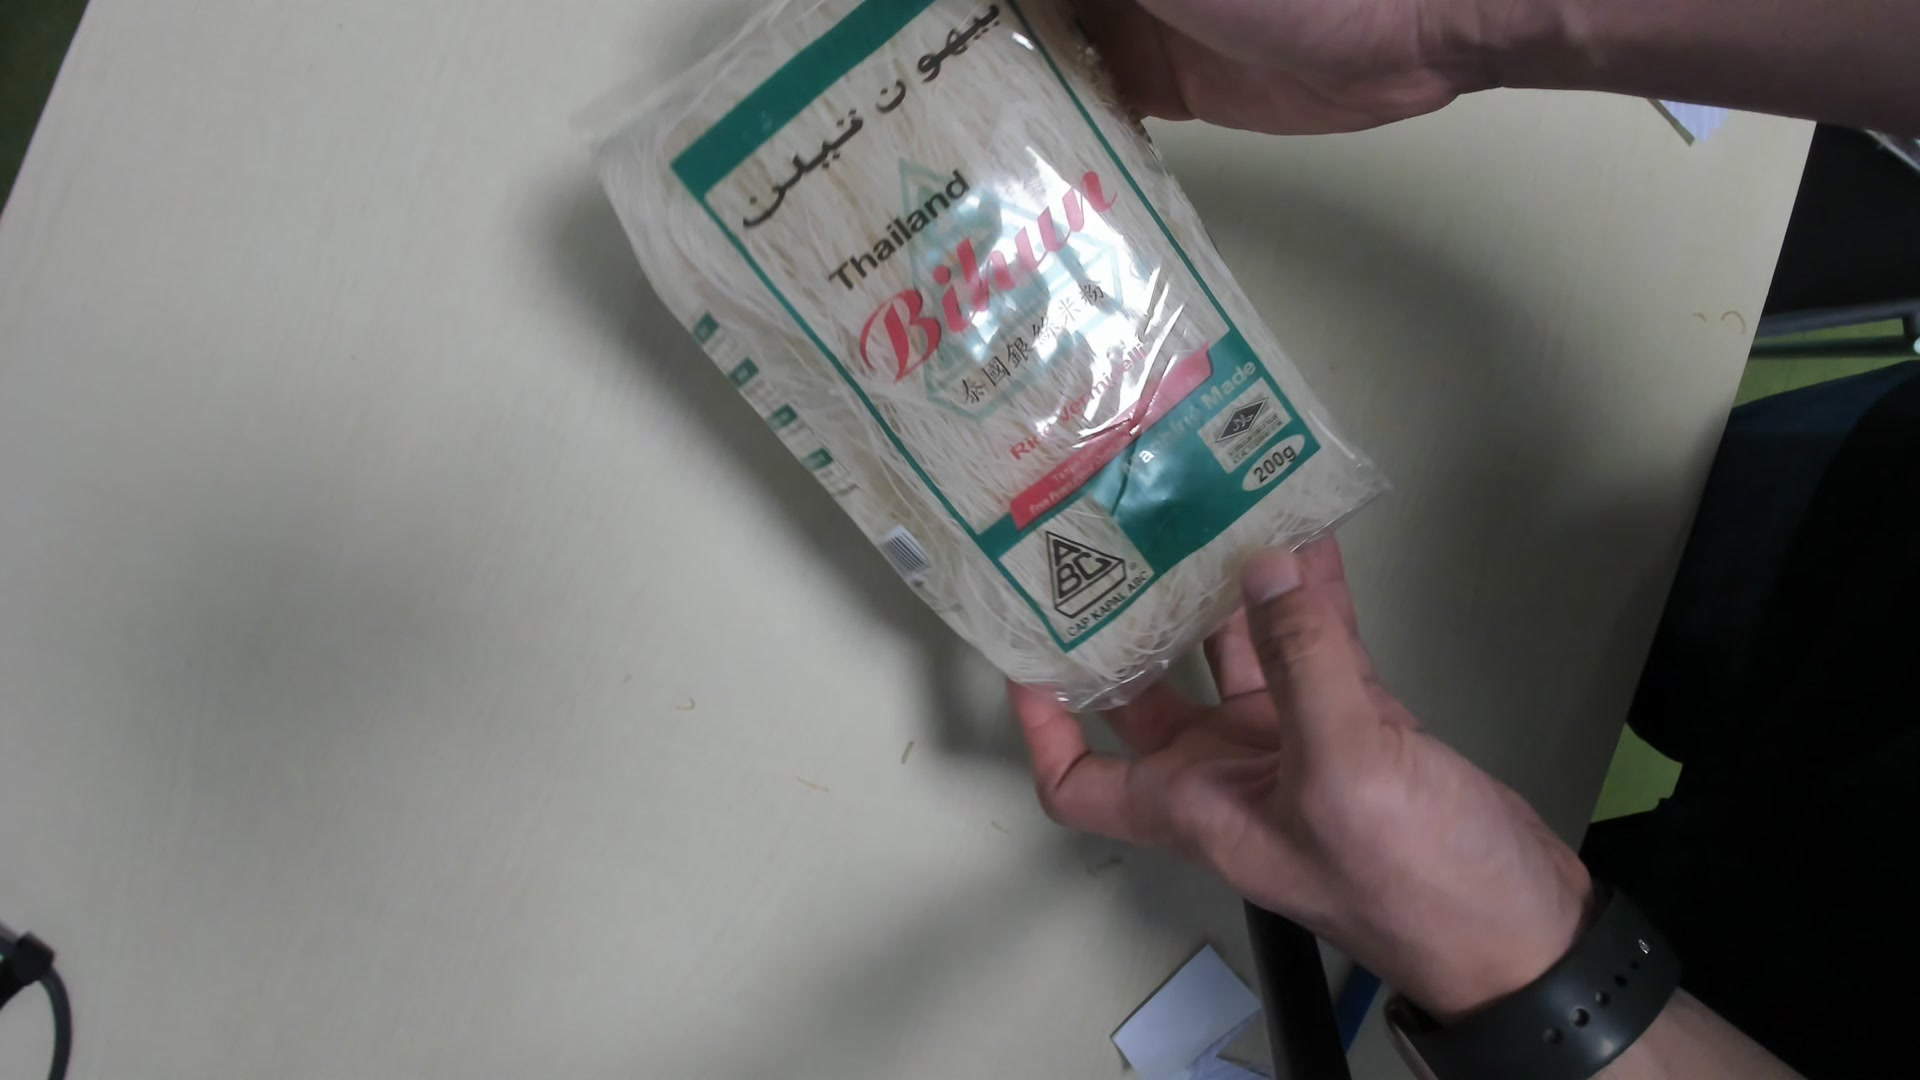BeeHoonVermicelli_200-299g_Halal_NonHealthy: (589, 3, 1379, 713)
